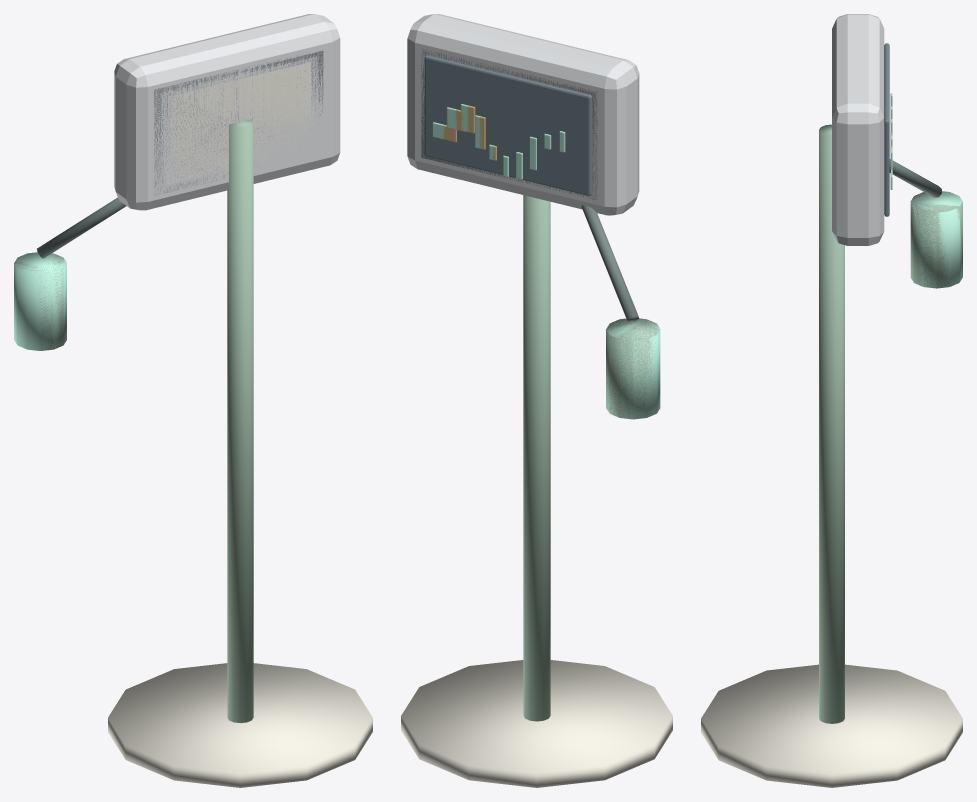
The model's file is Gear04.fbx.
3 renders of one model, left to right at view 1: azimuth 30°, elevation 25°; view 2: azimuth 150°, elevation 25°; view 3: azimuth 270°, elevation 25°, orthographic. The views are drawn at different scales.
Parts seen in each view (by area): view 1: Gear04_V1_Ivory, Gear04_V10_Platinum, Gear04_V1_Sage, Gear04_V3_Linen, Gear04_V9_Glow, Gear04_V5_Platinum, Gear04_V10_Glow, Gear04_V8_Graphite, Gear04_V9_Platinum, Gear04_V1_Ink, Gear04_V7_Graphite, Gear04_V4_Linen (+2 smaller); view 2: Gear04_V1_Ivory, Gear04_V10_Platinum, Gear04_V1_Sage, Gear04_V10_Glass, Gear04_V1_Glass, Gear04_V8_Glass, Gear04_V10_Glow, Gear04_V9_Glow, Gear04_V2_Glass, Gear04_V5_Glass, Gear04_V1_Ink, Gear04_V9_Platinum (+8 smaller); view 3: Gear04_V1_Ivory, Gear04_V1_Sage, Gear04_V10_Platinum, Gear04_V8_Glow, Gear04_V10_Glow, Gear04_V10_Glass, Gear04_V3_Sage, Gear04_V1_Ink.
Boxes of the visible parts, bbox=[...] form: Gear04_V1_Ivory: bbox=[108, 68, 372, 787]; Gear04_V10_Platinum: bbox=[114, 14, 340, 210]; Gear04_V1_Sage: bbox=[14, 119, 253, 722]; Gear04_V3_Linen: bbox=[170, 62, 310, 180]; Gear04_V9_Glow: bbox=[14, 252, 64, 350]; Gear04_V5_Platinum: bbox=[163, 56, 317, 186]; Gear04_V10_Glow: bbox=[17, 253, 66, 350]; Gear04_V8_Graphite: bbox=[154, 51, 325, 194]; Gear04_V9_Platinum: bbox=[151, 45, 329, 198]; Gear04_V1_Ink: bbox=[37, 197, 126, 258]; Gear04_V7_Graphite: bbox=[157, 51, 323, 150]; Gear04_V4_Linen: bbox=[166, 70, 313, 184]; Gear04_V1_Ivory: bbox=[401, 660, 672, 787]; Gear04_V10_Platinum: bbox=[407, 14, 639, 215]; Gear04_V1_Sage: bbox=[523, 195, 659, 721]; Gear04_V10_Glass: bbox=[424, 55, 592, 195]; Gear04_V1_Glass: bbox=[447, 77, 566, 175]; Gear04_V8_Glass: bbox=[430, 63, 583, 190]; Gear04_V10_Glow: bbox=[432, 104, 659, 419]; Gear04_V9_Glow: bbox=[435, 105, 660, 418]; Gear04_V2_Glass: bbox=[445, 76, 568, 174]; Gear04_V5_Glass: bbox=[438, 91, 576, 183]; Gear04_V1_Ink: bbox=[581, 205, 638, 322]; Gear04_V9_Platinum: bbox=[418, 46, 600, 202]; Gear04_V1_Ivory: bbox=[701, 664, 962, 787]; Gear04_V1_Sage: bbox=[819, 124, 962, 723]; Gear04_V10_Platinum: bbox=[832, 14, 884, 245]; Gear04_V8_Glow: bbox=[890, 120, 959, 288]; Gear04_V10_Glow: bbox=[890, 93, 962, 288]; Gear04_V10_Glass: bbox=[884, 43, 889, 216]; Gear04_V3_Sage: bbox=[910, 195, 958, 287]; Gear04_V1_Ink: bbox=[889, 159, 941, 197].
Size of the model in its own units: 62 by 142 by 50.
